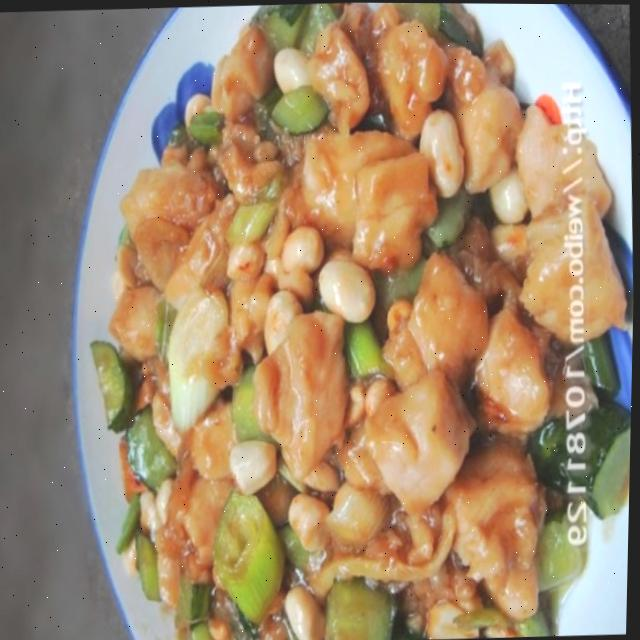鸡肉料理 含炸鸡: (105, 11, 604, 640)
